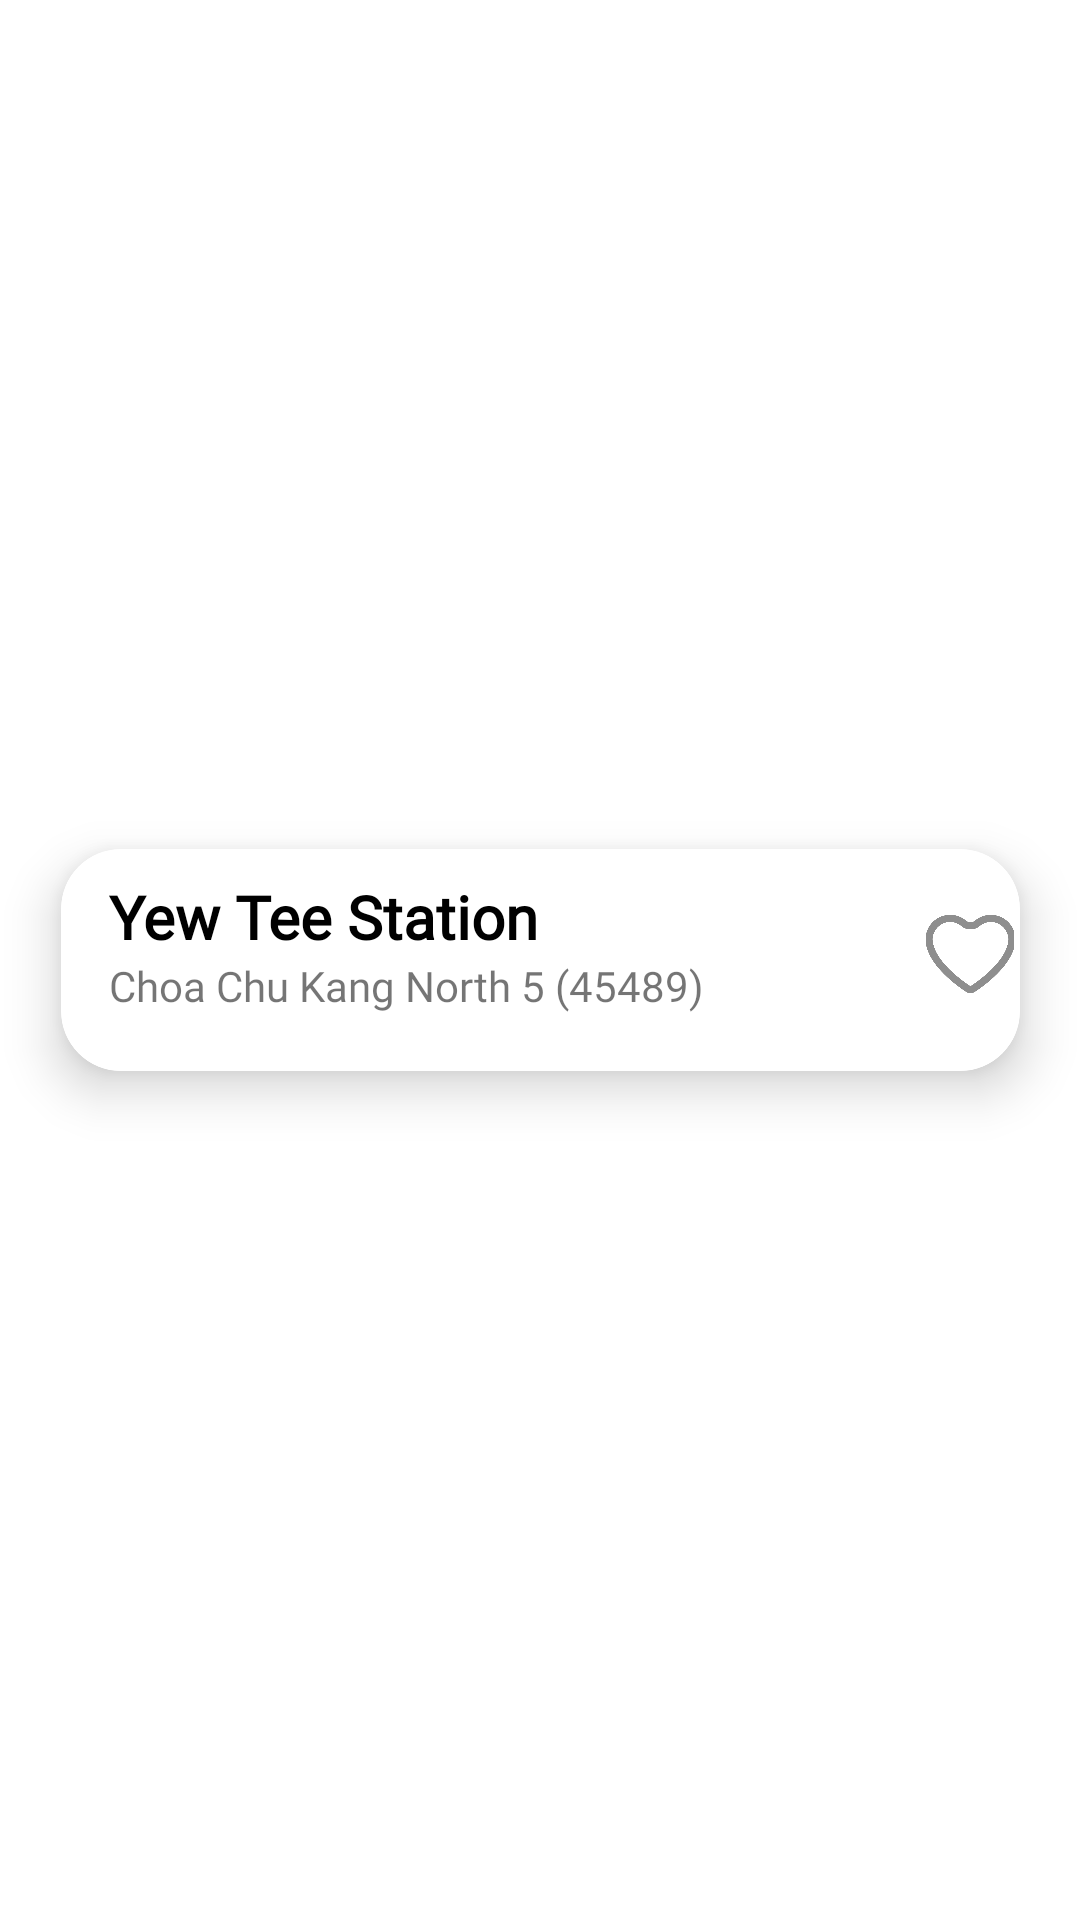

Where icons sit on this 1080w x 1920h app screen, as (x1, y1, x2, y2):
favorite: (926, 915, 1014, 993)
